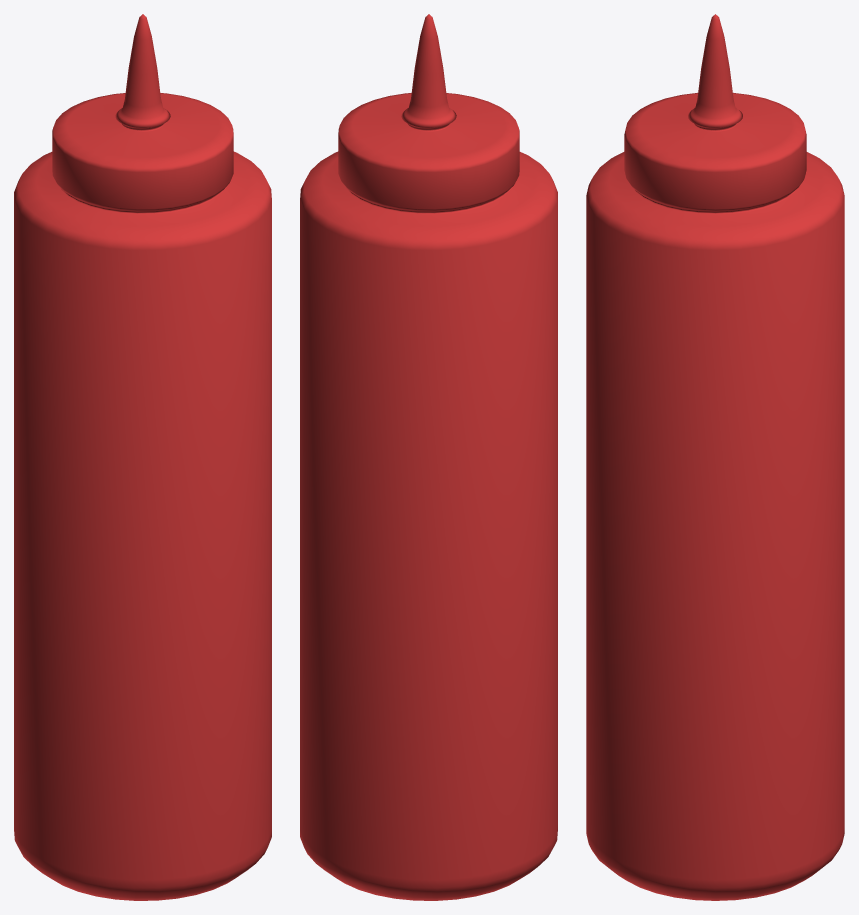
The model's file is ketchup projeto integrador.fbx.
3 views of the same model, side by side, from view 1: azimuth 30°, elevation 25°; view 2: azimuth 150°, elevation 25°; view 3: azimuth 270°, elevation 25° (orthographic).
Visible parts, largest first — view 1: Cylinder; view 2: Cylinder; view 3: Cylinder.
Part boxes in pixels (left/top/right/bottom): Cylinder: left=14, top=14, right=271, bottom=900; Cylinder: left=300, top=14, right=557, bottom=900; Cylinder: left=586, top=14, right=844, bottom=900.
Bounding box in the file's own units: 186 × 673 × 186.
